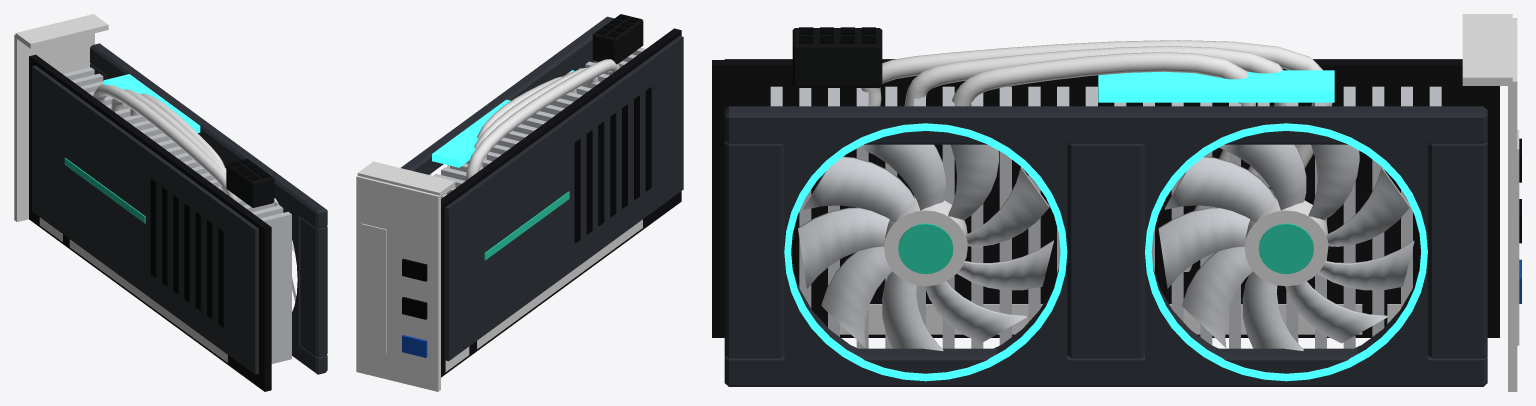
The model's file is hw_gpu_rtx4060ti.glb.
3 views of the same model, side by side, from view 1: azimuth 30°, elevation 25°; view 2: azimuth 150°, elevation 25°; view 3: azimuth 270°, elevation 25° (orthographic). The views are drawn at different scales.
Visible parts, largest first — view 1: Body; view 2: Body; view 3: Body, Rotor_X_0, Rotor_X_1.
Part boxes in pixels (x1,y1,x2,y2): Body: [14, 14, 327, 391]; Body: [356, 14, 683, 391]; Body: [712, 14, 1521, 391]; Rotor_X_0: [1158, 144, 1414, 350]; Rotor_X_1: [798, 144, 1053, 350].
Bounding box in the file's own units: 0.0366 × 0.0847 × 0.1939.
